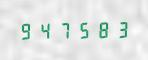eight: (94, 19, 112, 39)
five: (75, 19, 93, 39)
four: (36, 20, 54, 40)
nine: (17, 20, 35, 40)
seven: (56, 20, 74, 39)
three: (113, 19, 131, 39)
